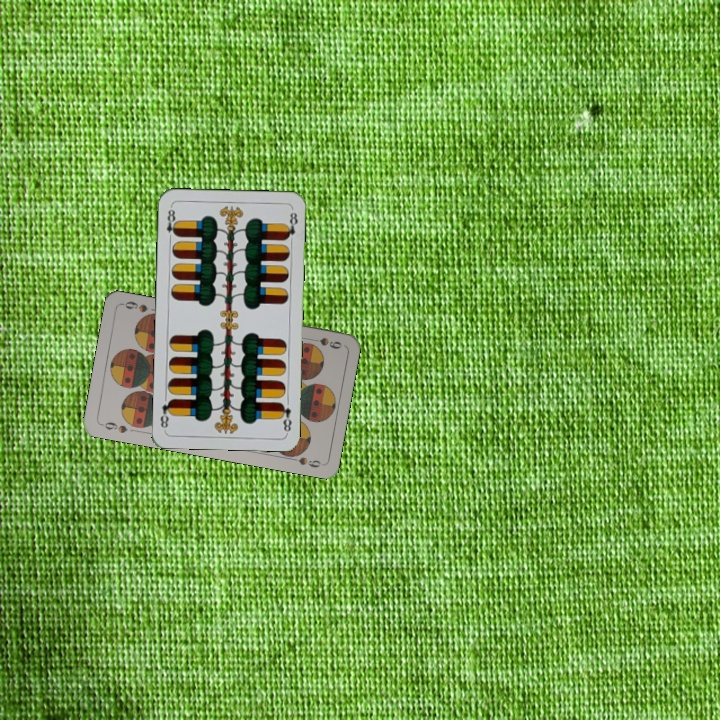E8: (163, 203, 180, 243), (276, 399, 294, 434)
S9: (304, 334, 344, 352), (97, 418, 130, 436)
